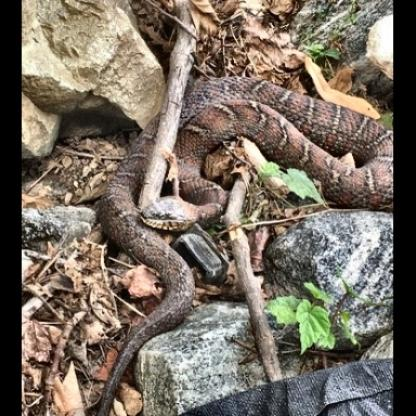Snake: (25, 12, 390, 414)
